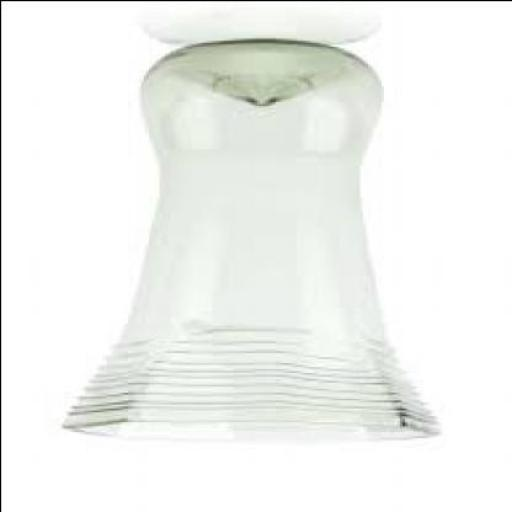glass: (60, 41, 441, 439)
